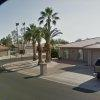Tree: (20, 1, 63, 61)
